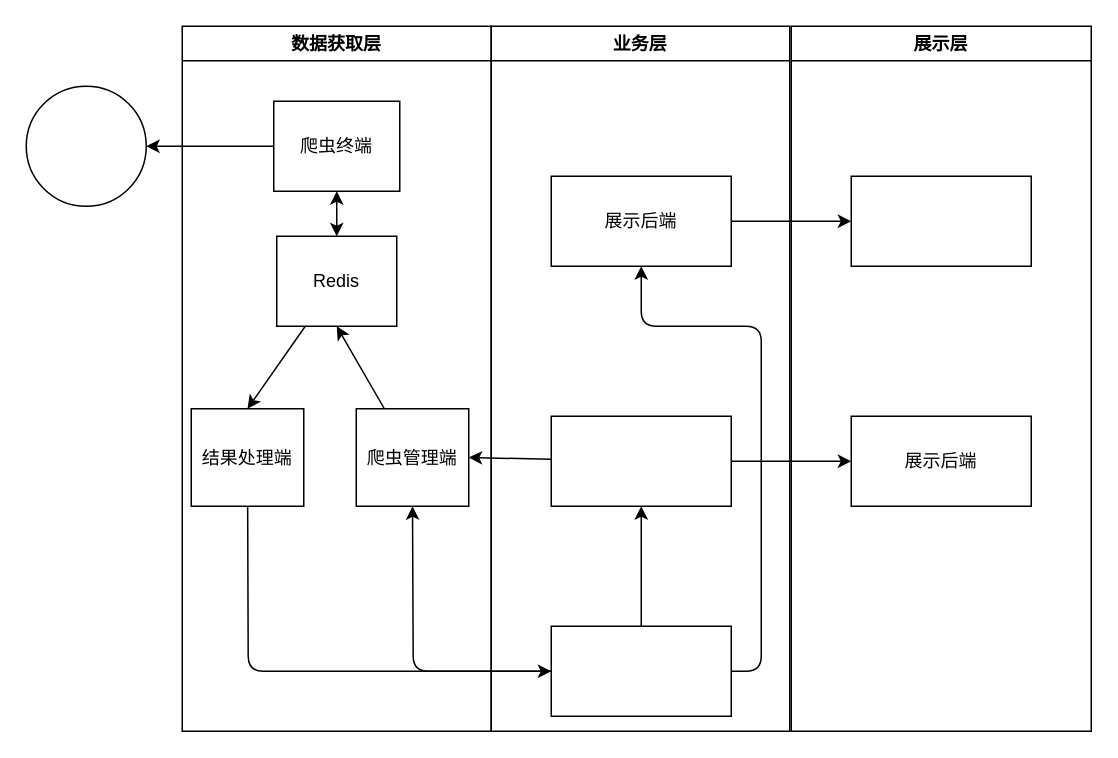
The diagram is 1118 pixels wide and 758 high, and some of its shapes have lost their labels. The shapes that lost their labels are listed below. From the top down, each one's centre as x and y in pixels, then its label:
At point (85, 145): "外部网站".
At point (940, 220): "展示前端".
At point (640, 460): "管理后端".
At point (640, 670): "Mysql数据库".
